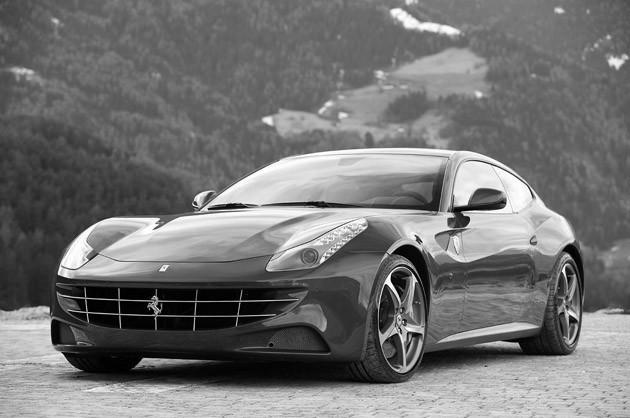car: (50, 147, 587, 385)
